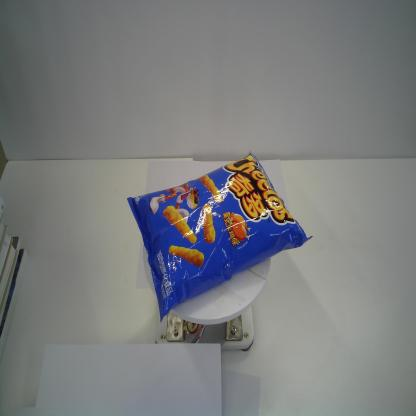Puffed Food: (125, 149, 313, 328)
